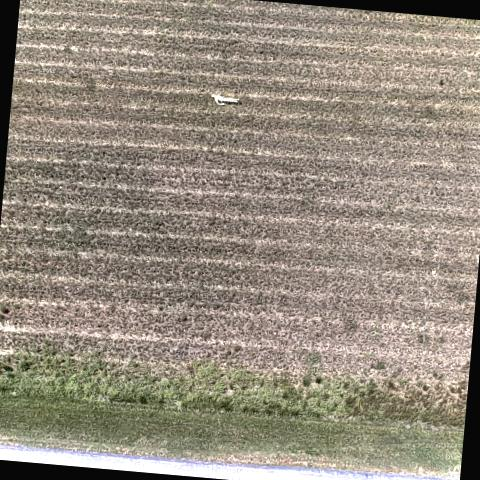person: (210, 91, 241, 109)
